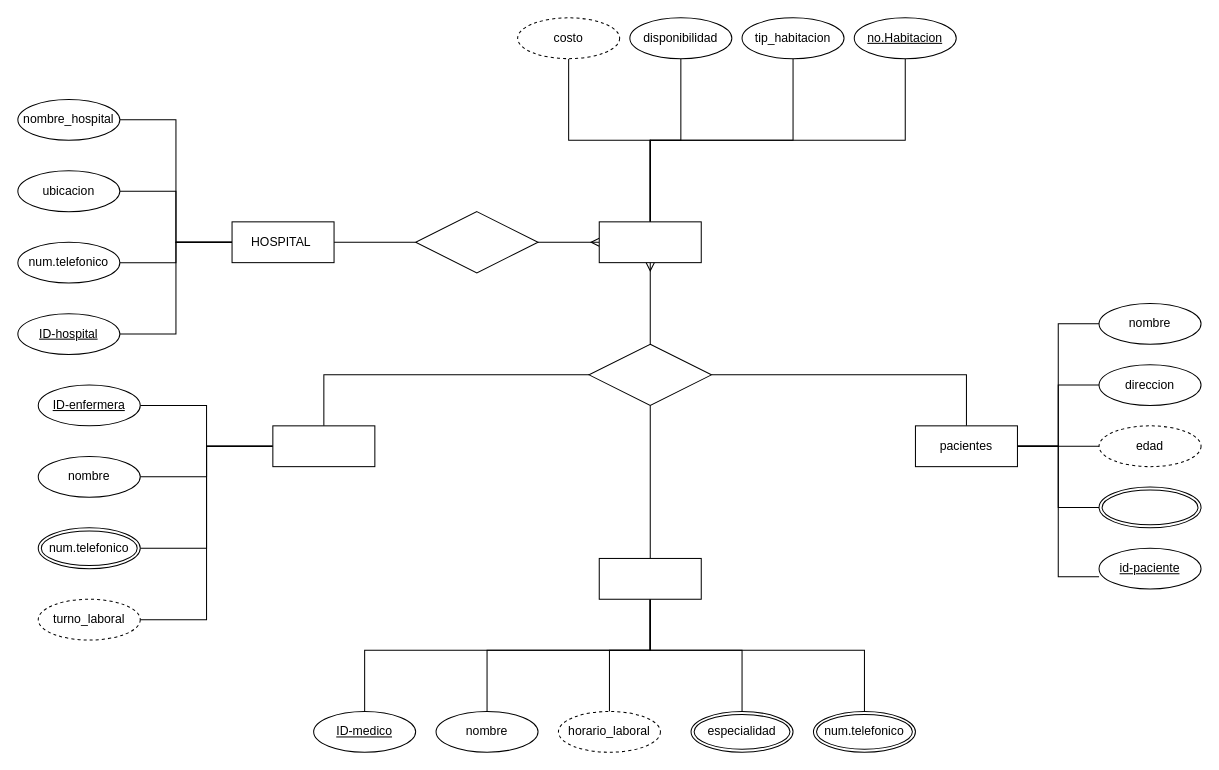
Image size: 1219x770. Some labels were removed from this diagram. Each missing label, with the centre of its shape:
contiene: the point at 649,374
enfermeras: the point at 323,446
habitaciones: the point at 649,242
medicos: the point at 649,578
telefono: the point at 1149,507
tiene: the point at 476,242
